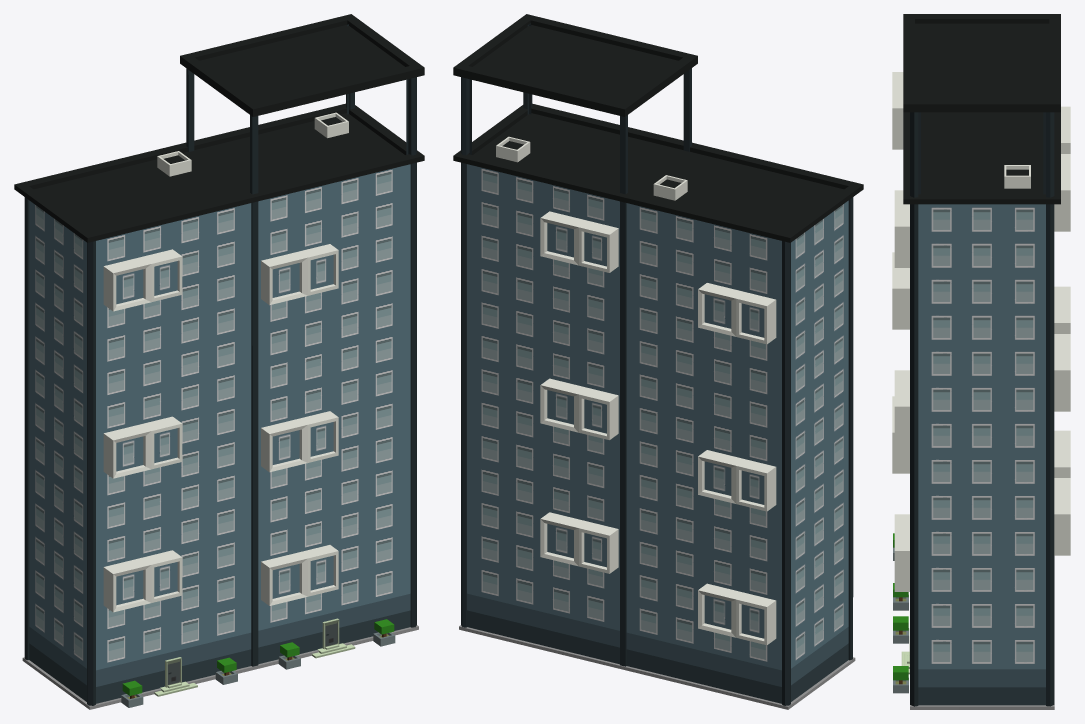
Rendered from Pair House High.fbx.
The picture shows the model from 3 angles, left to right: view 1: azimuth 30°, elevation 25°; view 2: azimuth 150°, elevation 25°; view 3: azimuth 270°, elevation 25°; orthographic projection. The views are drawn at different scales.
Visible parts, largest first — view 1: Pair House High; view 2: Pair House High; view 3: Pair House High.
Boxes of the visible parts, left/top/right/bottom form: Pair House High: left=14, top=14, right=424, bottom=709; Pair House High: left=453, top=14, right=863, bottom=709; Pair House High: left=892, top=14, right=1070, bottom=709.
Size of the model in its own units: 10.71 by 17.1 by 4.56.
